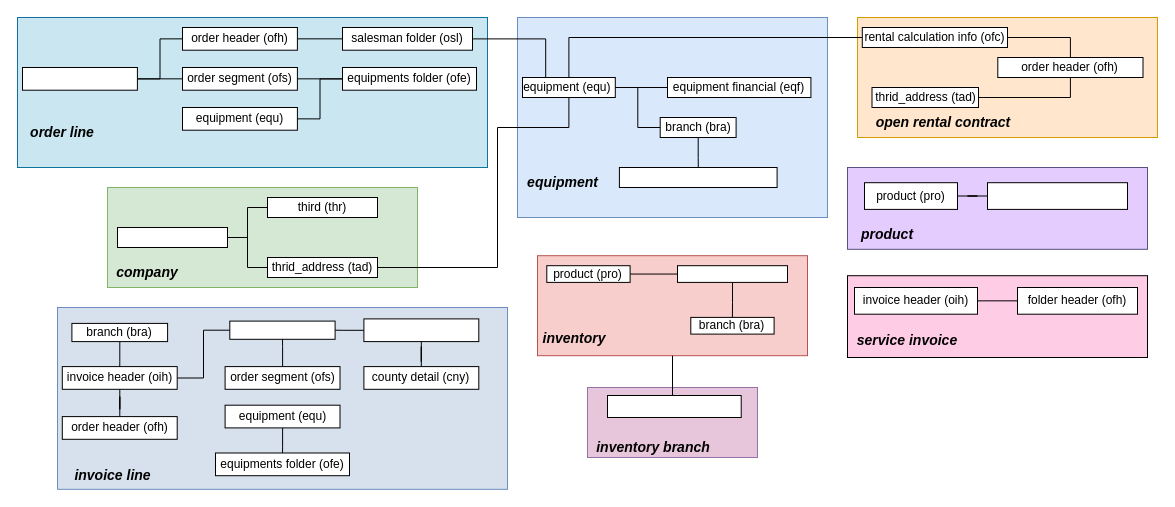
The diagram is 1175 pixels wide and 507 high, and some of its shapes have lost their labels. The box of each missing label's shape, as (x1, y1, x2, y2) in pixels:
customer (csc): (116, 226, 228, 248)
equipment managed (eqm): (618, 166, 777, 188)
folder line (ofl): (22, 66, 137, 90)
invoice line (oil): (229, 320, 335, 339)
product branch (prb): (606, 394, 741, 418)
product description (pdi): (986, 182, 1128, 209)
product stock (psk): (676, 265, 788, 282)
third address (tad): (363, 318, 479, 342)
